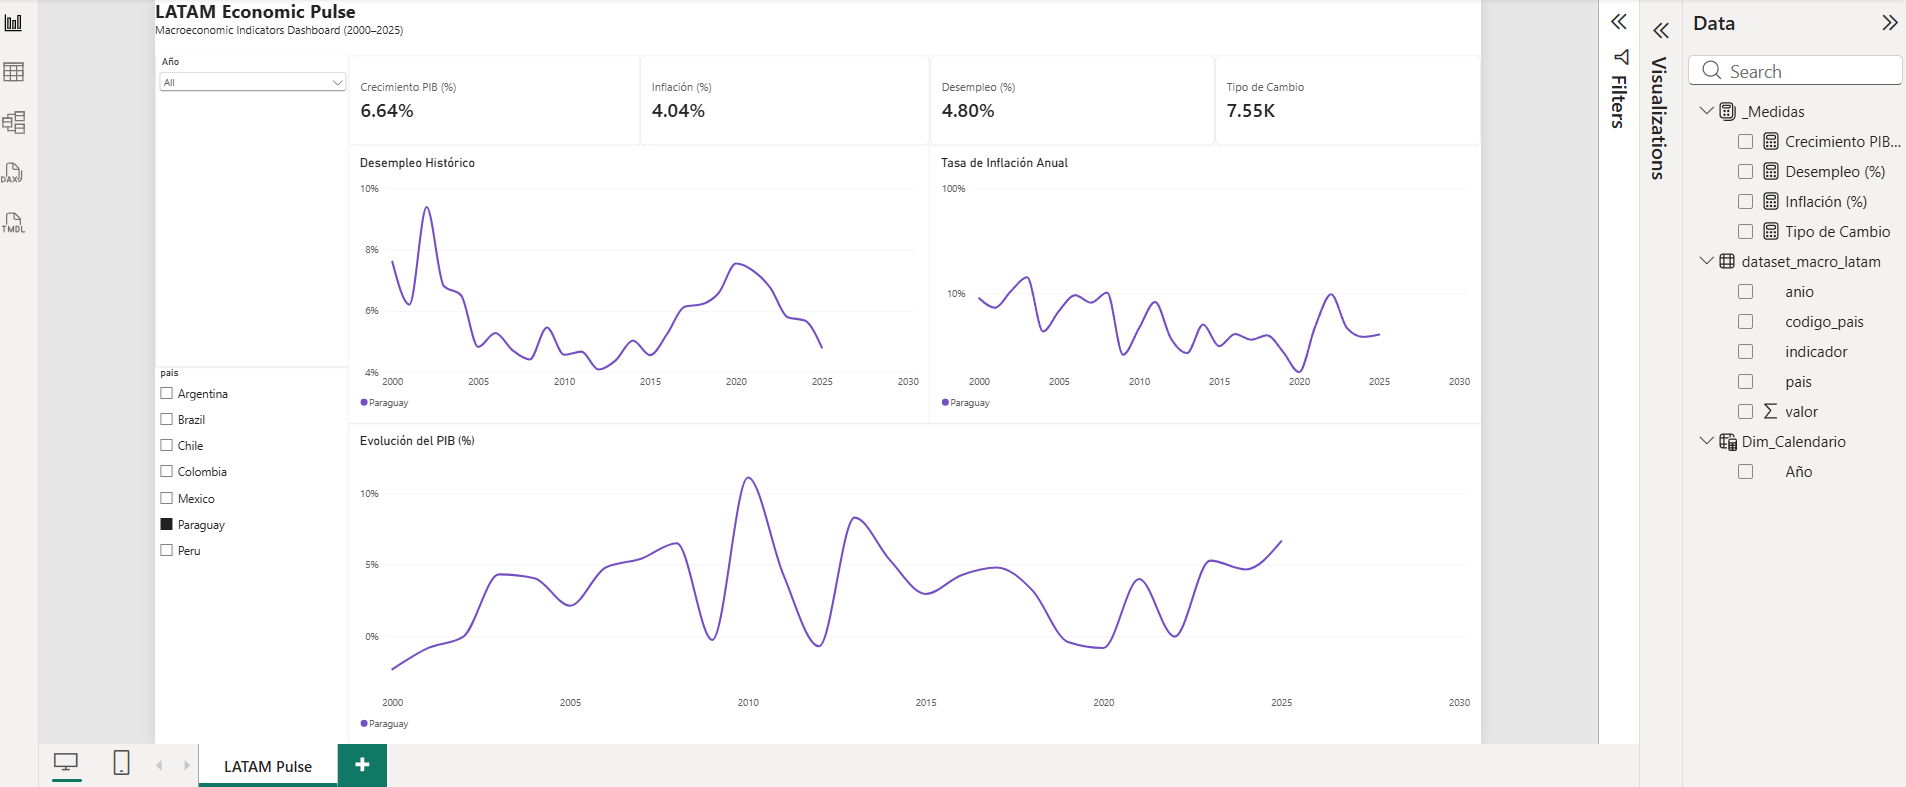

Layout of this report page (visuals, bound fields, positions):
{"tool":"powerbi","page":{"name":"LATAM Pulse","canvas":[1920,1080],"ordinal":0},"visuals":[{"type":"slicer","fields":{"Values":["dataset_macro_latam.pais"]},"box":[0,533.8,280.5,546.5],"z":0},{"type":"slicer","title":"YEAR","fields":{"Values":["Dim_Calendario.Año"]},"box":[1.8,83.2,280.5,450.6],"z":1},{"type":"lineChart","title":"Evolución del PIB (%)","fields":{"Category":["Dim_Calendario.Año"],"Y":["_Medidas.Crecimiento PIB (%)"],"Series":["dataset_macro_latam.pais"]},"box":[280.5,615.3,1639.6,465.1],"z":6},{"type":"textbox","box":[0,0,1920.1,83.2],"z":7},{"type":"cardVisual","fields":{"Data":["_Medidas.Crecimiento PIB (%)"]},"box":[280.5,83.2,437.9,130.3],"z":8},{"type":"cardVisual","fields":{"Data":["_Medidas.Inflación (%)"]},"box":[702.1,83.2,419.8,130.3],"z":9},{"type":"cardVisual","fields":{"Data":["_Medidas.Desempleo (%)"]},"box":[1122,83.2,412.6,130.3],"z":10},{"type":"cardVisual","fields":{"Data":["_Medidas.Tipo de Cambio"]},"box":[1534.6,83.2,385.5,130.3],"z":11},{"type":"lineChart","title":"Desempleo Histórico","fields":{"Category":["Dim_Calendario.Año"],"Series":["dataset_macro_latam.pais"],"Y":["_Medidas.Desempleo (%)"]},"box":[280.5,213.5,841.5,401.7],"z":12},{"type":"lineChart","title":"Tasa de Inflación Anual","fields":{"Category":["Dim_Calendario.Año"],"Series":["dataset_macro_latam.pais"],"Y":["_Medidas.Inflación (%)"]},"box":[1122,213.5,798.1,401.7],"z":13}]}

Visuals, with their boxes in screenshot pixels (x1, y1, x2, y2):
slicer - dataset_macro_latam.pais: 0 326 150 706
"YEAR" slicer: 0 13 152 326
"Evolución del PIB (%)" lineChart: 150 383 1290 706
textbox: 0 0 1290 13
cardVisual - _Medidas.Crecimiento PIB (%): 150 13 455 104
cardVisual - _Medidas.Inflación (%): 443 13 735 104
cardVisual - _Medidas.Desempleo (%): 735 13 1022 104
cardVisual - _Medidas.Tipo de Cambio: 1022 13 1290 104
"Desempleo Histórico" lineChart: 150 104 735 383
"Tasa de Inflación Anual" lineChart: 735 104 1290 383
